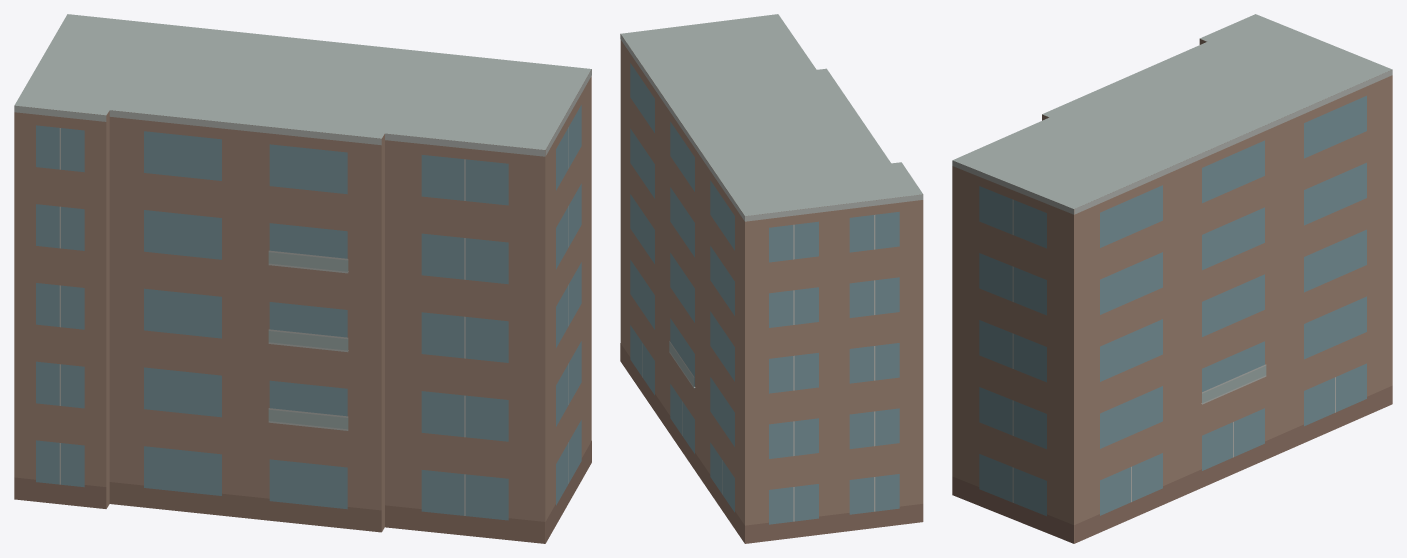
File: survey-upis-32886212.glb
3 views of the same model, side by side, from view 1: azimuth 30°, elevation 25°; view 2: azimuth 150°, elevation 25°; view 3: azimuth 270°, elevation 25° (orthographic). The views are drawn at different scales.
Visible parts, largest first — view 1: survey-upis-32886212.tmp; view 2: survey-upis-32886212.tmp; view 3: survey-upis-32886212.tmp.
Boxes of the visible parts, x1,y1,x2,y2 form: survey-upis-32886212.tmp: (14,14,591,543); survey-upis-32886212.tmp: (620,14,923,543); survey-upis-32886212.tmp: (952,14,1392,543).
Size of the model in its own units: 18.14 by 14.5 by 17.29.
